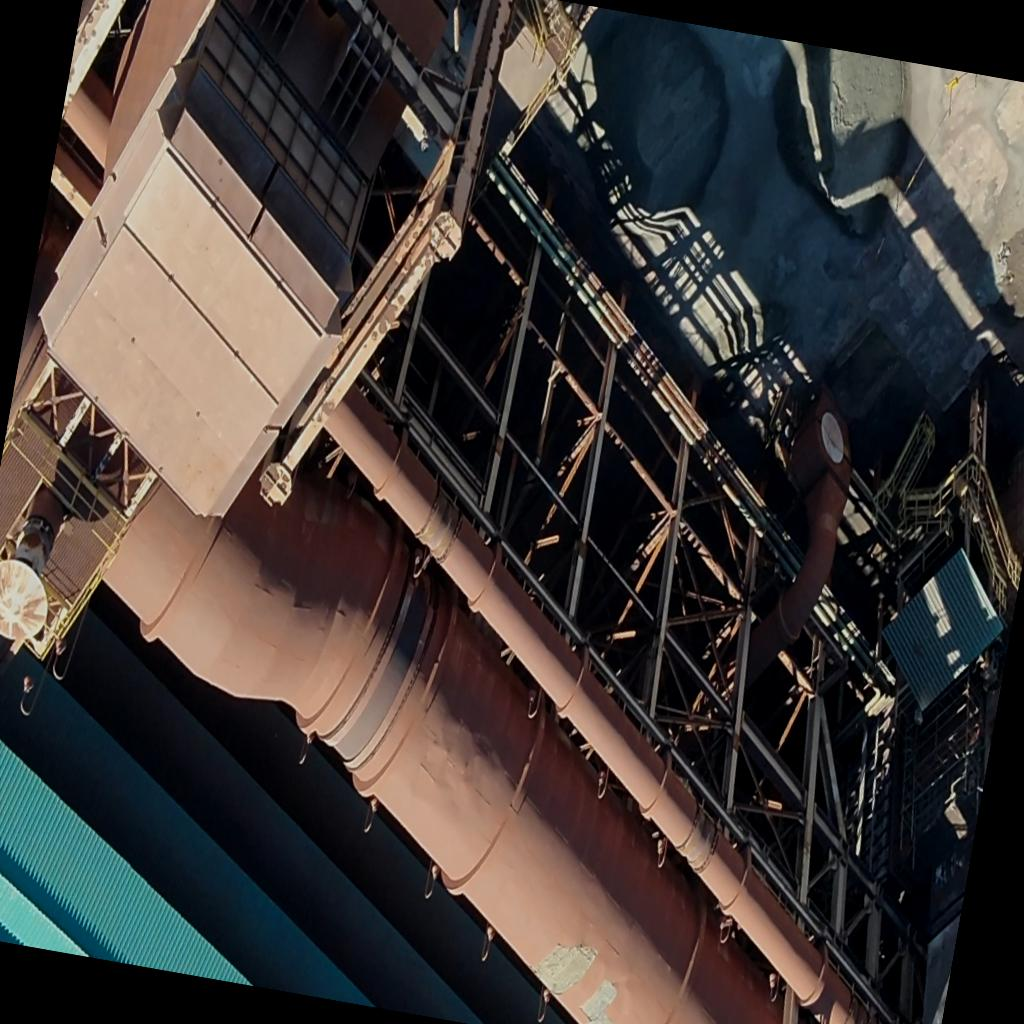Failures: (530, 934, 599, 1001), (580, 974, 620, 1024), (585, 1011, 614, 1024)
